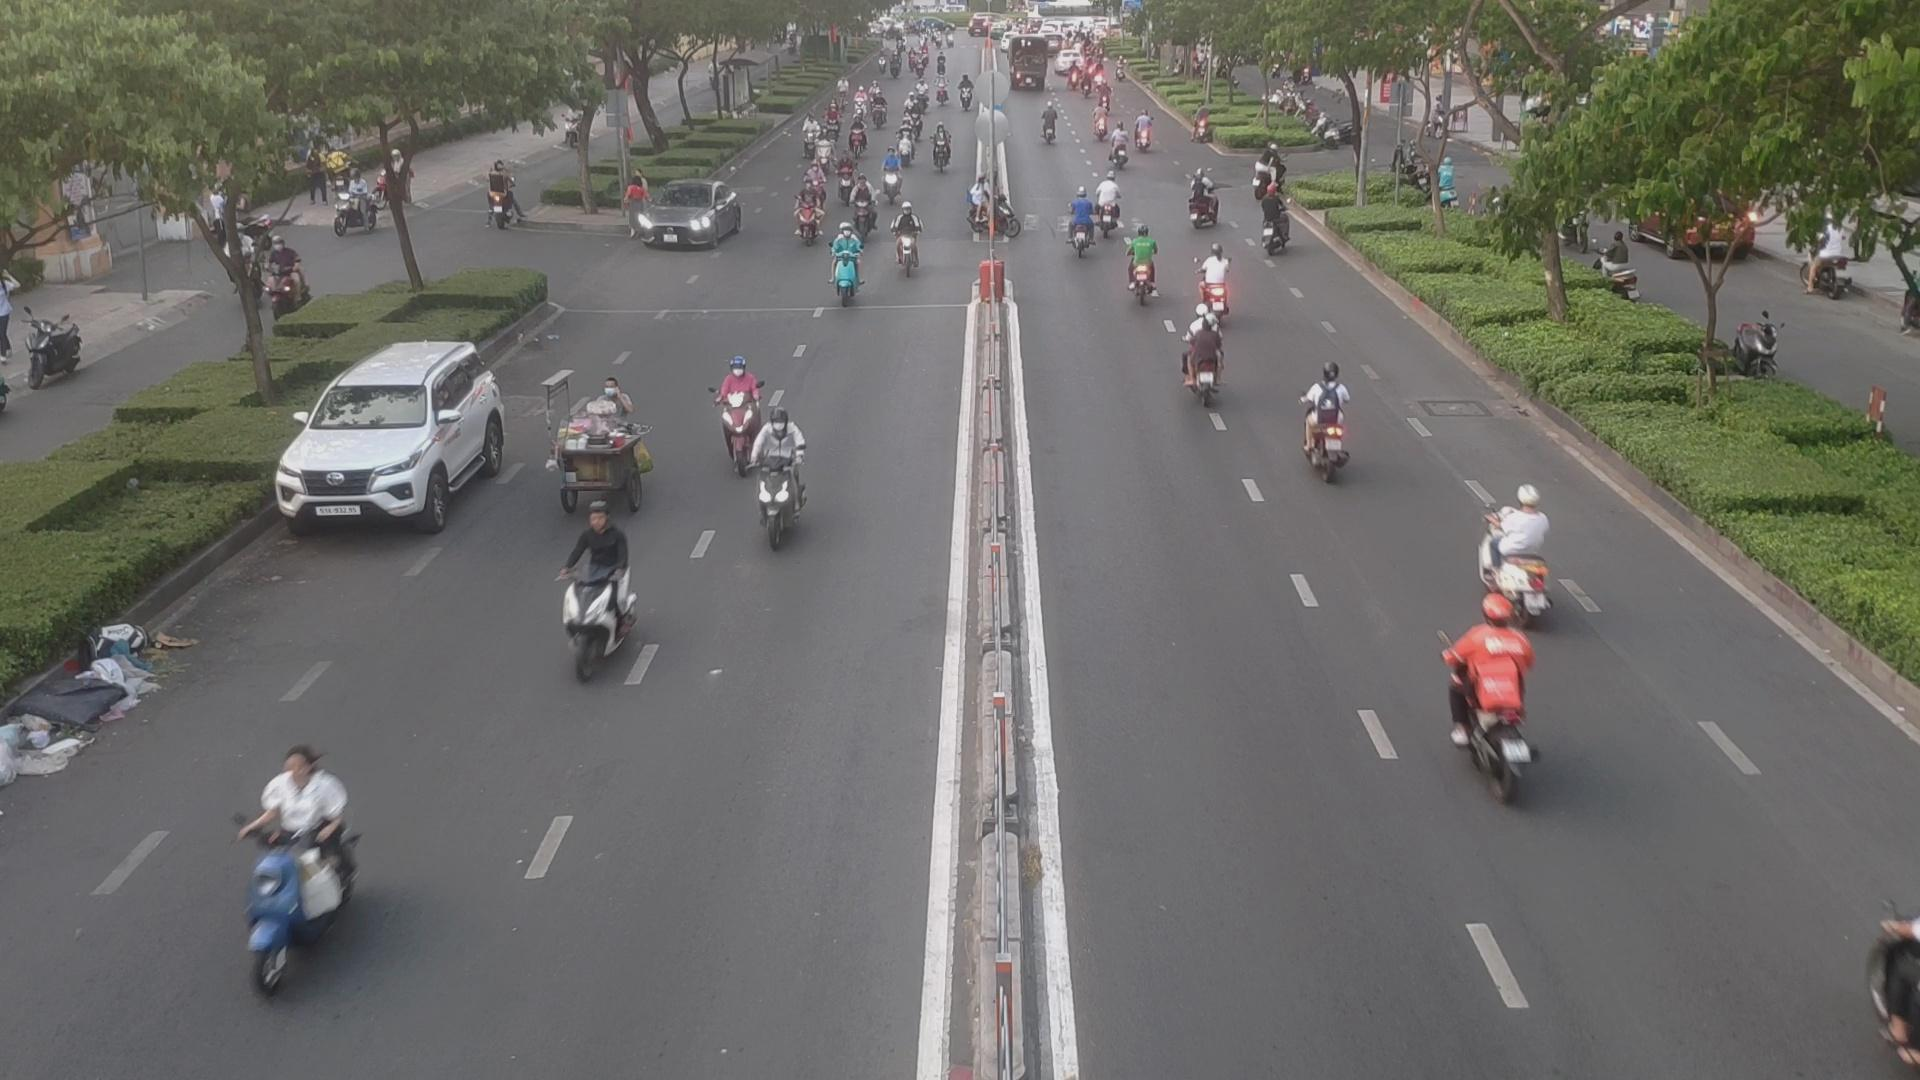car: (281, 338, 521, 527), (625, 186, 752, 255)
motorbike: (223, 746, 368, 980), (1429, 611, 1549, 800), (556, 516, 659, 675), (1472, 491, 1553, 613), (746, 411, 818, 549), (1300, 368, 1366, 473), (709, 357, 770, 450), (1180, 310, 1222, 410), (1196, 233, 1236, 327), (827, 225, 873, 301), (1124, 228, 1167, 305), (1062, 189, 1108, 258), (1072, 185, 1120, 247), (887, 218, 927, 280), (1261, 200, 1303, 258), (793, 193, 829, 248), (1102, 127, 1130, 167)
